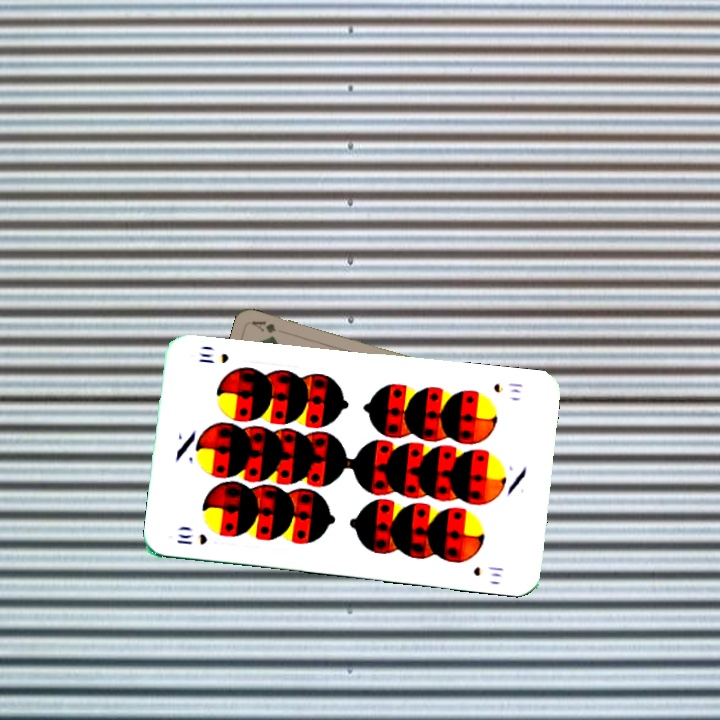S10: (172, 530, 210, 547), (489, 379, 526, 396)
